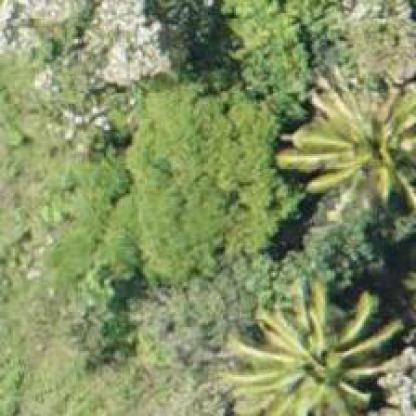coconut tree: (223, 279, 405, 414), (272, 69, 415, 223)
